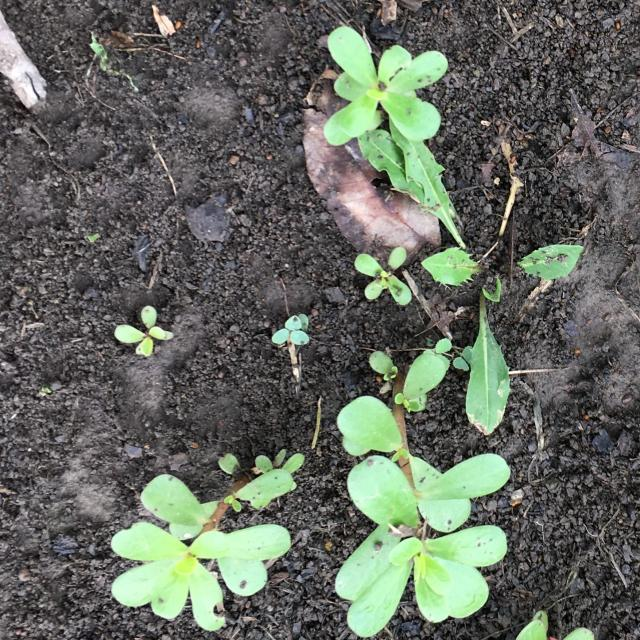Purslane: (335, 351, 511, 637), (111, 449, 305, 631), (324, 26, 449, 146), (355, 247, 412, 305), (114, 306, 174, 356)
